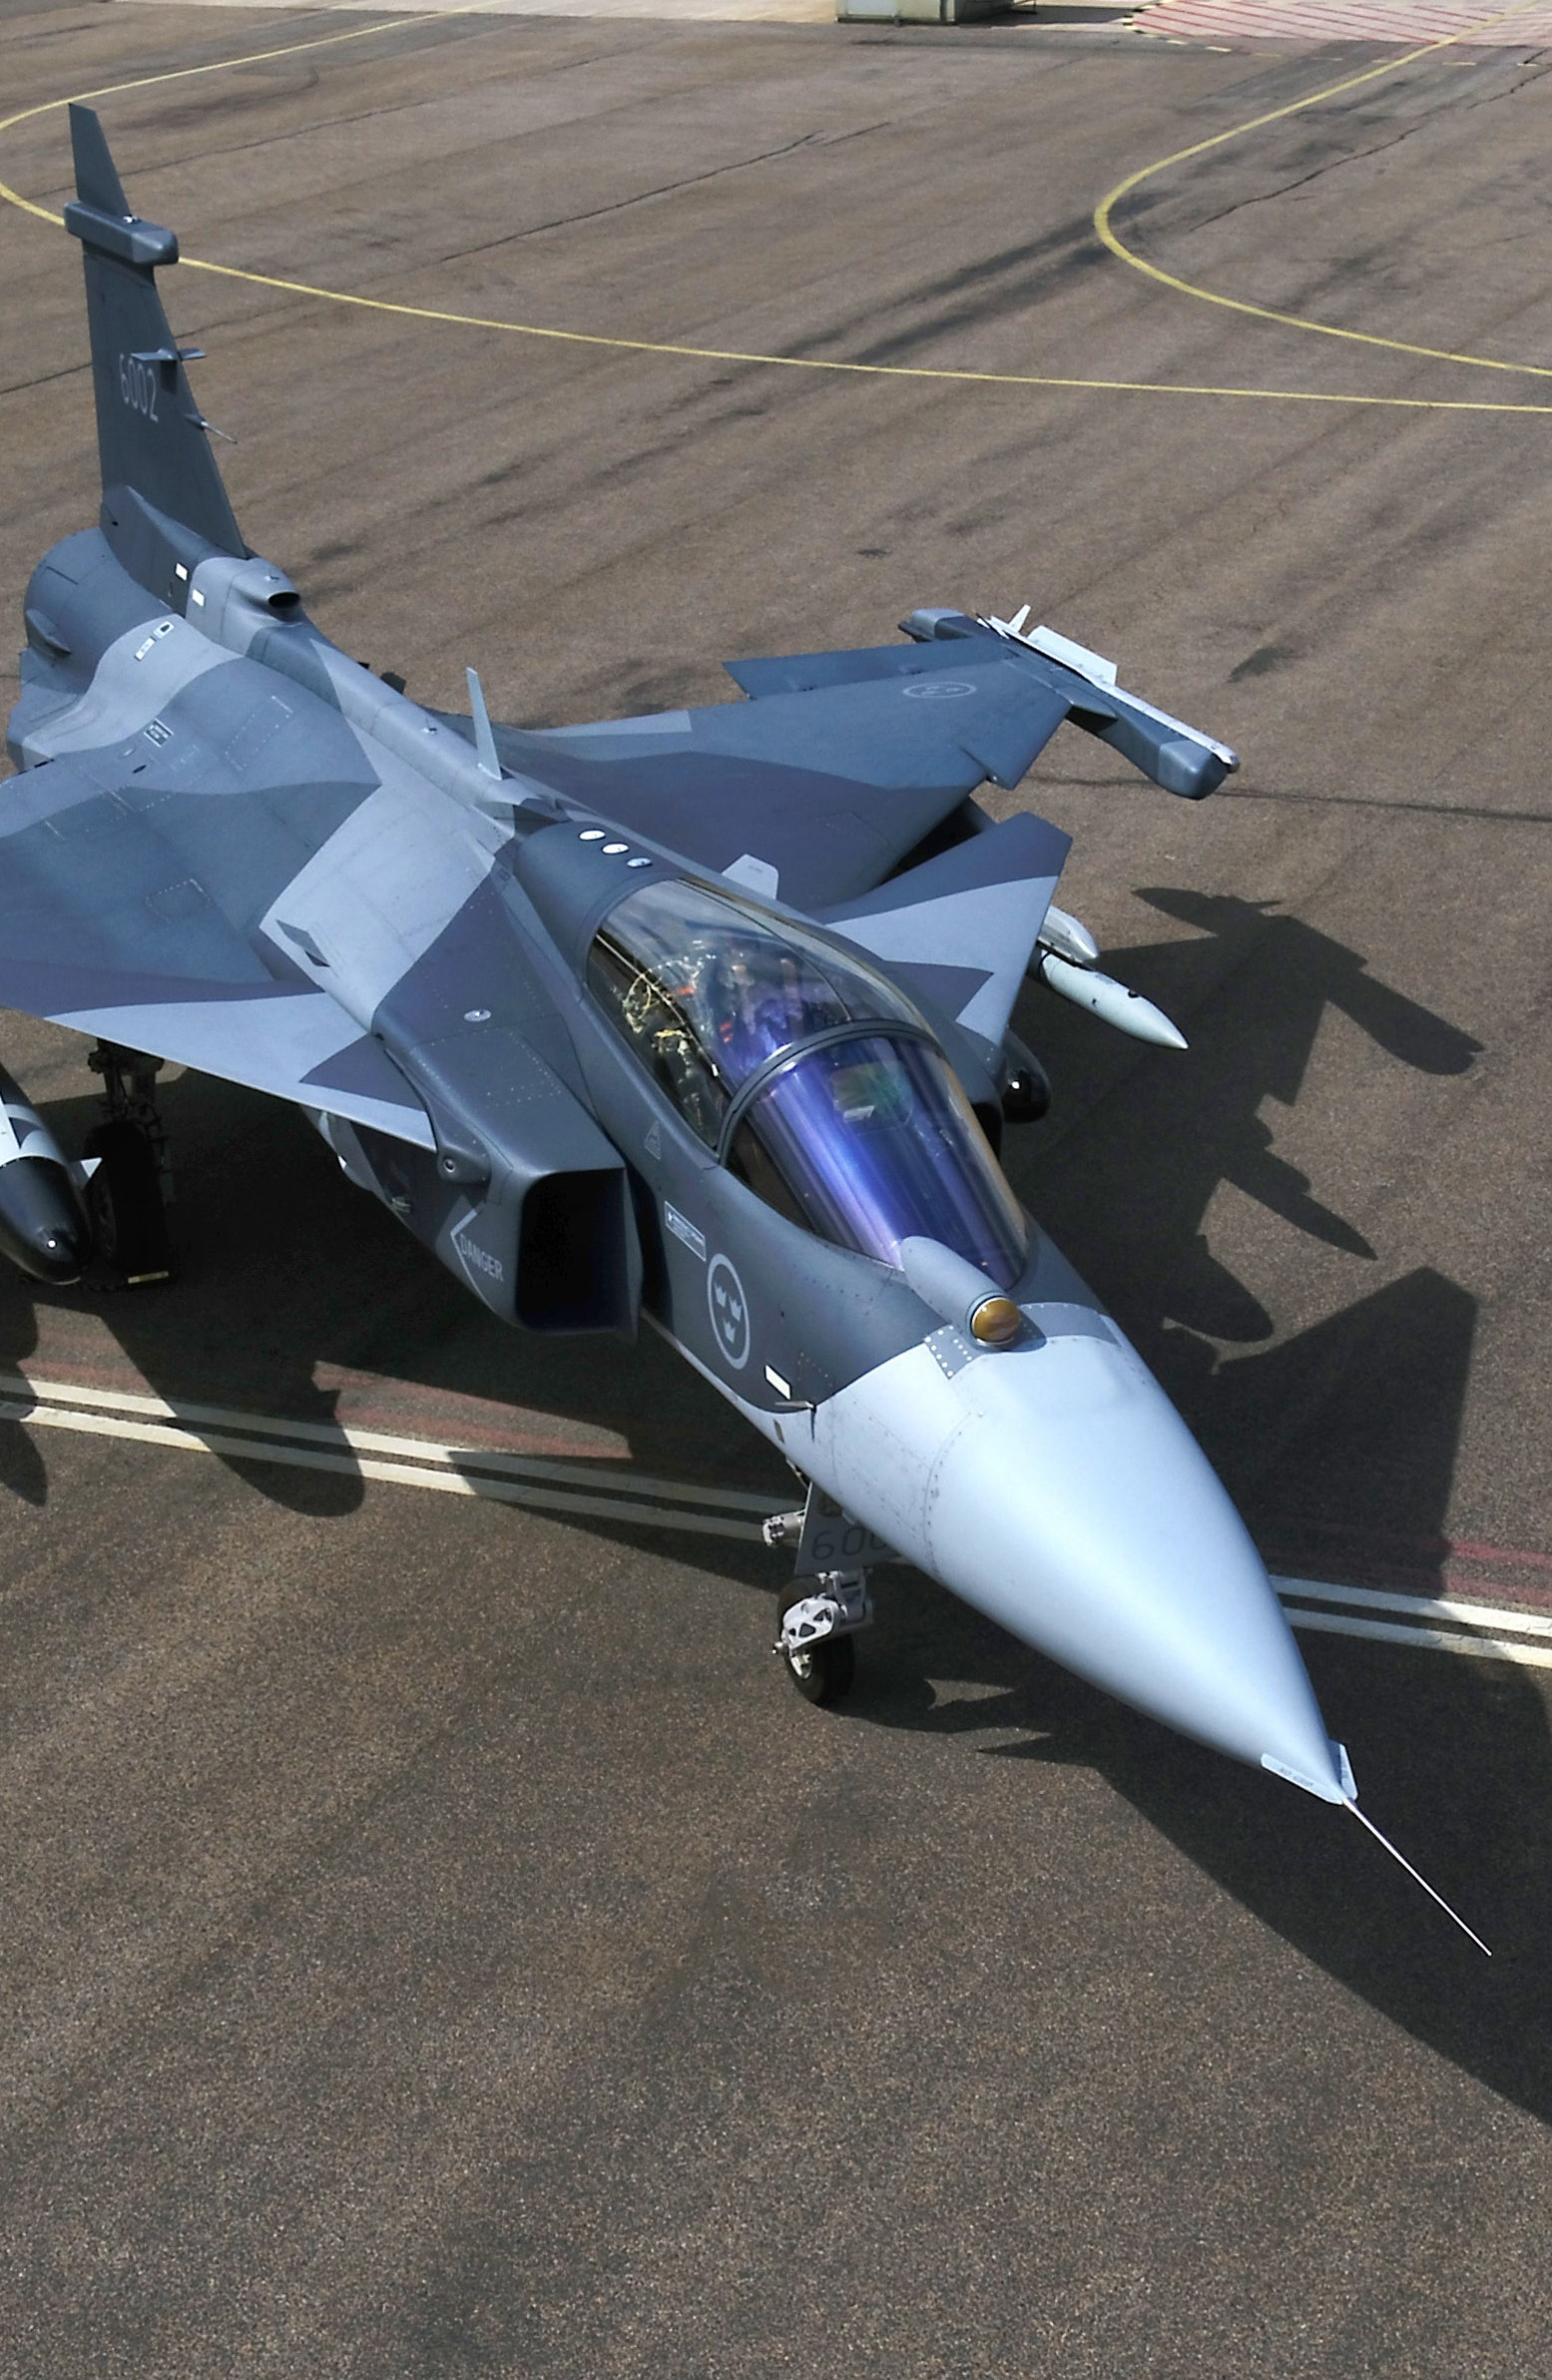JAS39: (2, 101, 1493, 1958)
